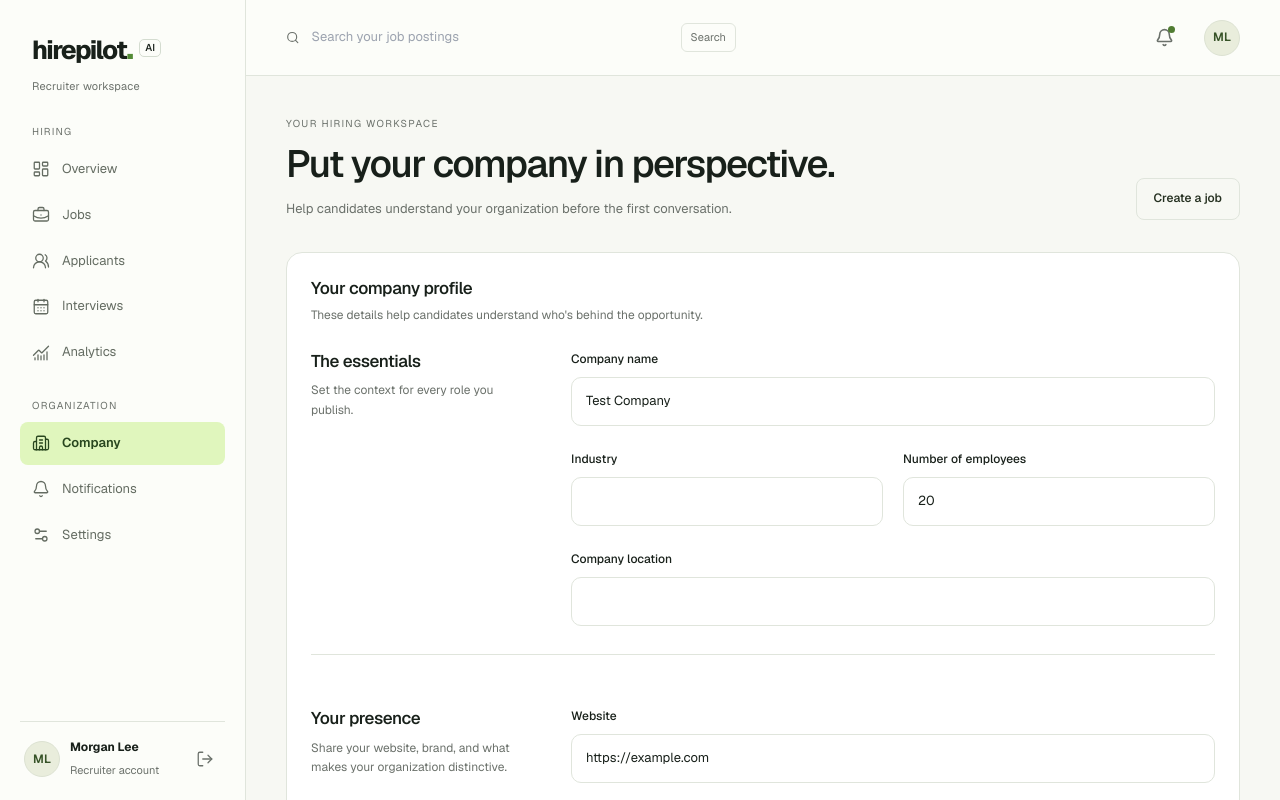
Test: Recruiter product workflows › clears company fields rather than silently retaining old values
The width and height of the screenshot is (1280, 800).
Clear the field labelled "Website" at (893, 759), box [571,734,1215,783]
(page scrolled)
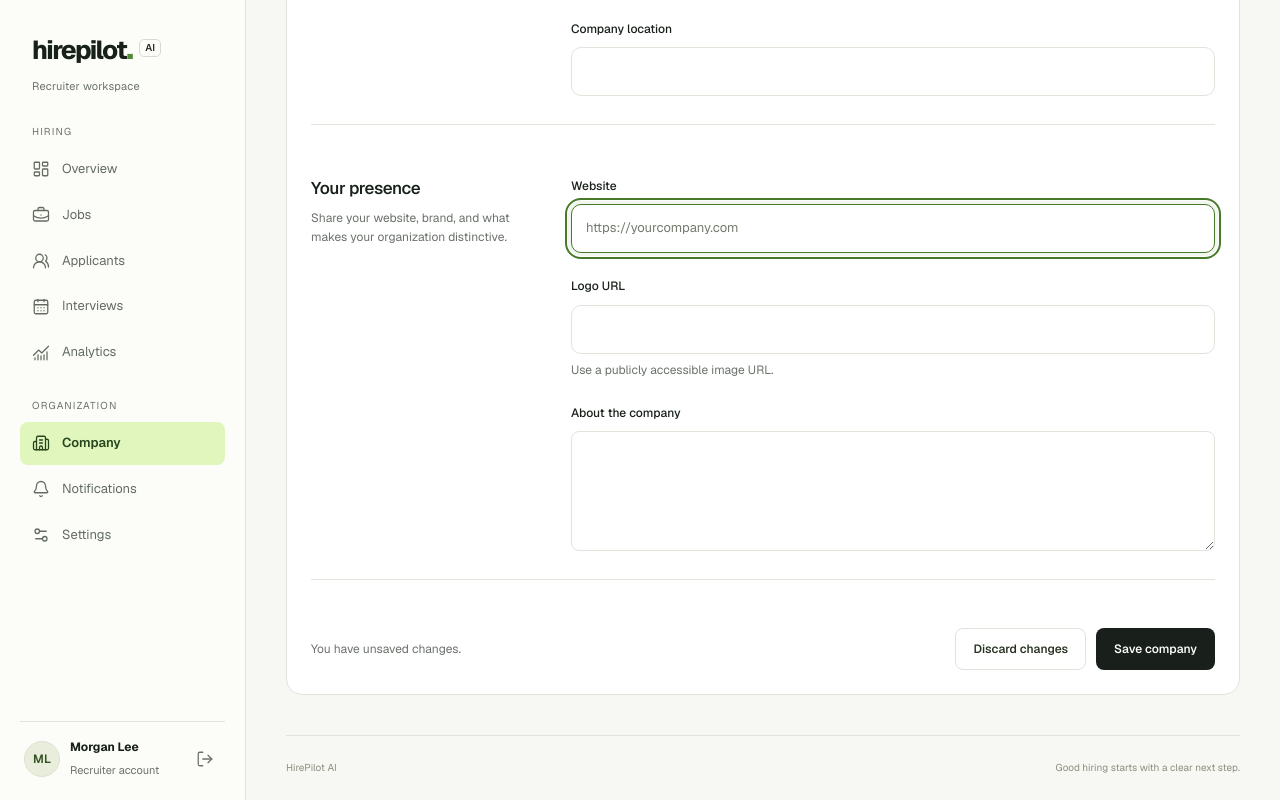
Click the button "Save company" at (1156, 649), box [1096,628,1215,670]
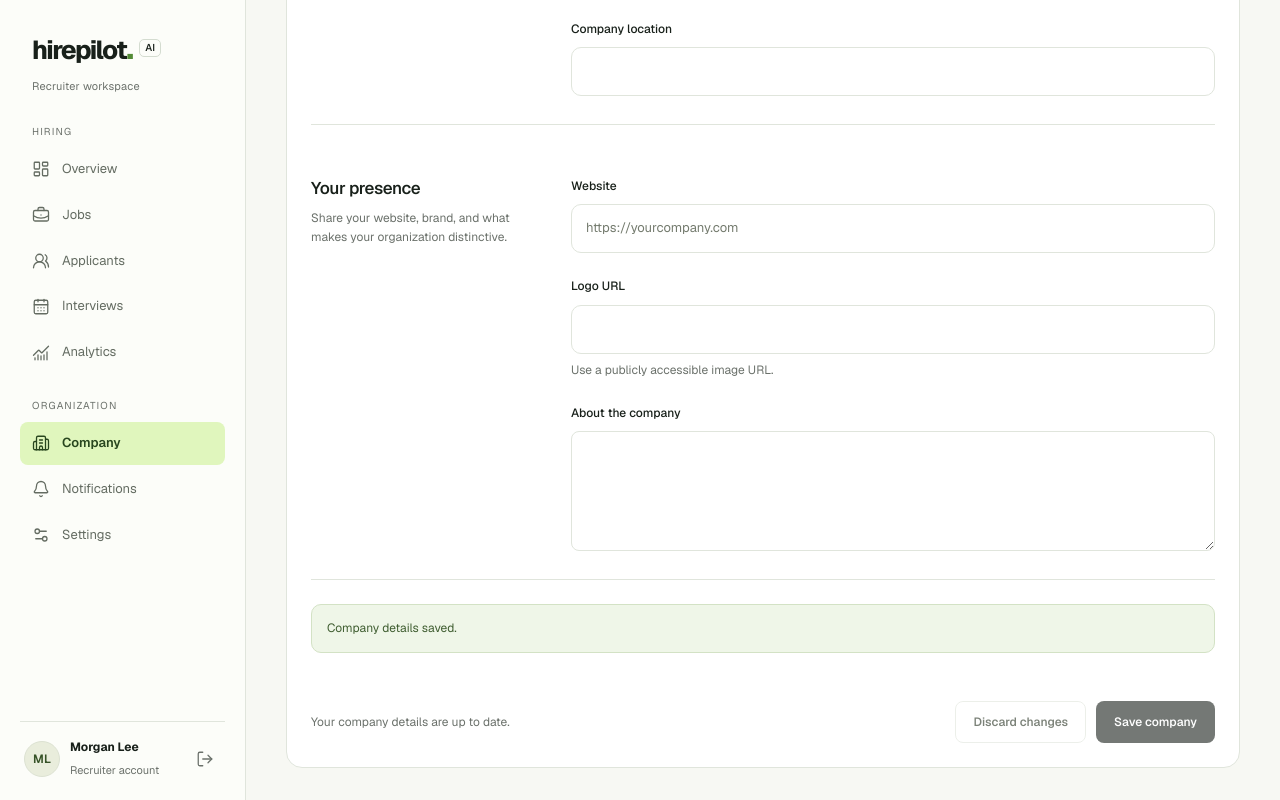
Expected: the text "Company details saved." is shown, [311,604,1215,653]
